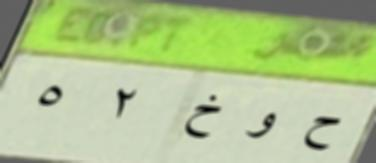2: (105, 81, 148, 127)
5: (27, 76, 74, 120)
7aa: (300, 106, 347, 158)
khaa: (182, 90, 224, 148)
waw: (242, 104, 280, 147)
